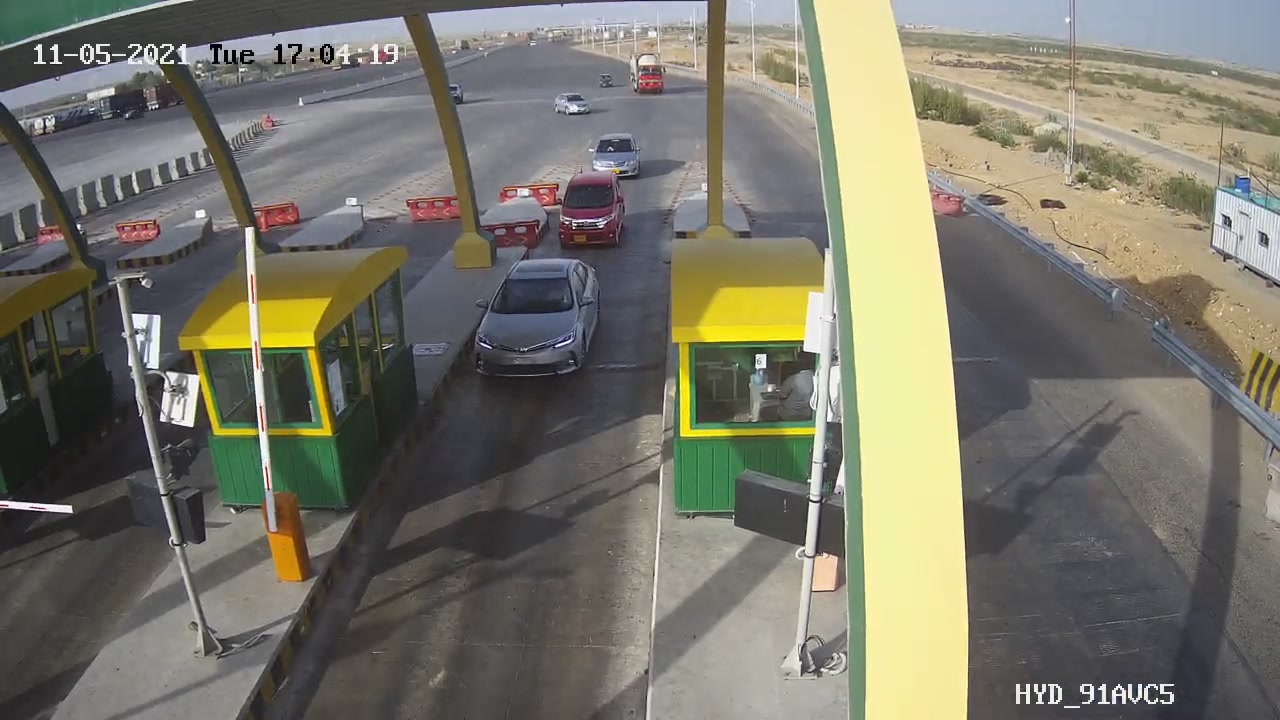F1: (457, 247, 626, 399), (542, 159, 642, 269)
